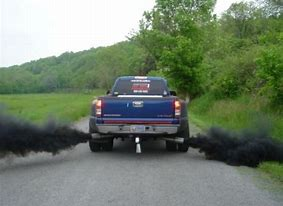smoke: (188, 126, 283, 168), (1, 113, 89, 158)
